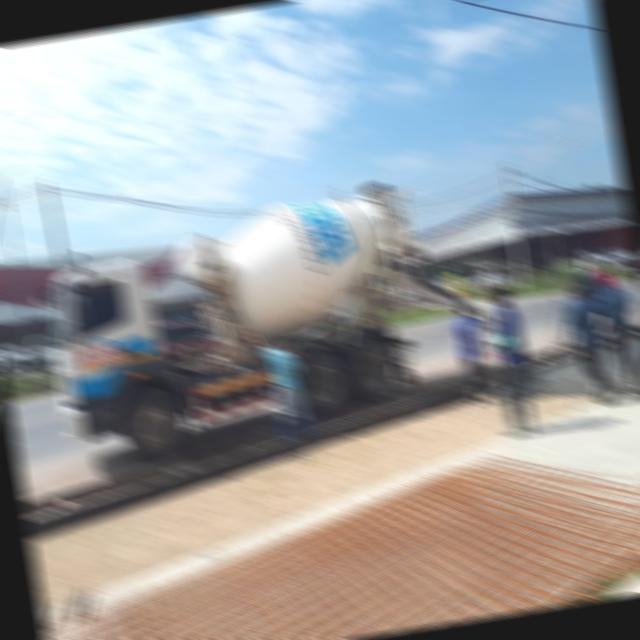cement_mixer_truck: (47, 187, 415, 462)
